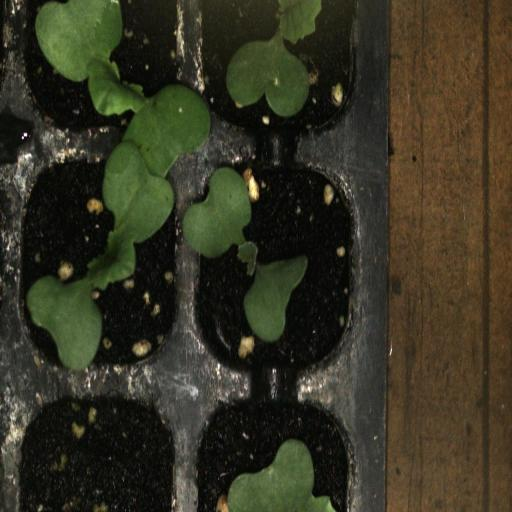Folha: (228, 439, 335, 512)
Germinacao: (14, 150, 192, 386), (196, 145, 361, 387), (200, 0, 363, 145)
